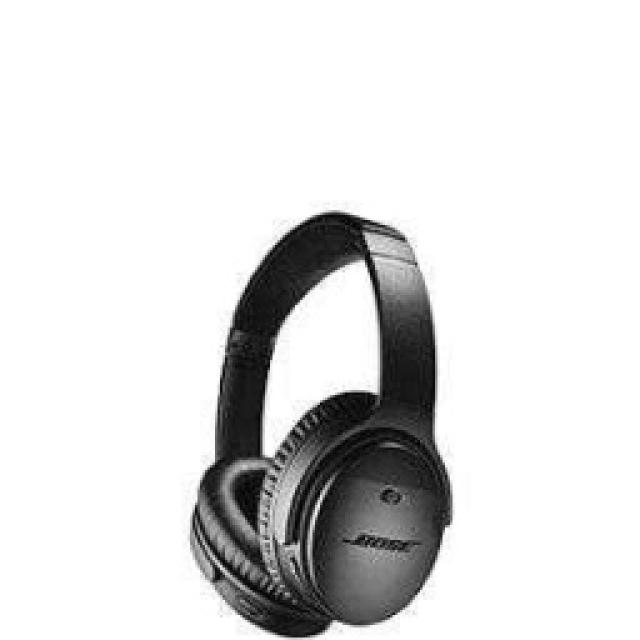headphones: (188, 208, 452, 638)
